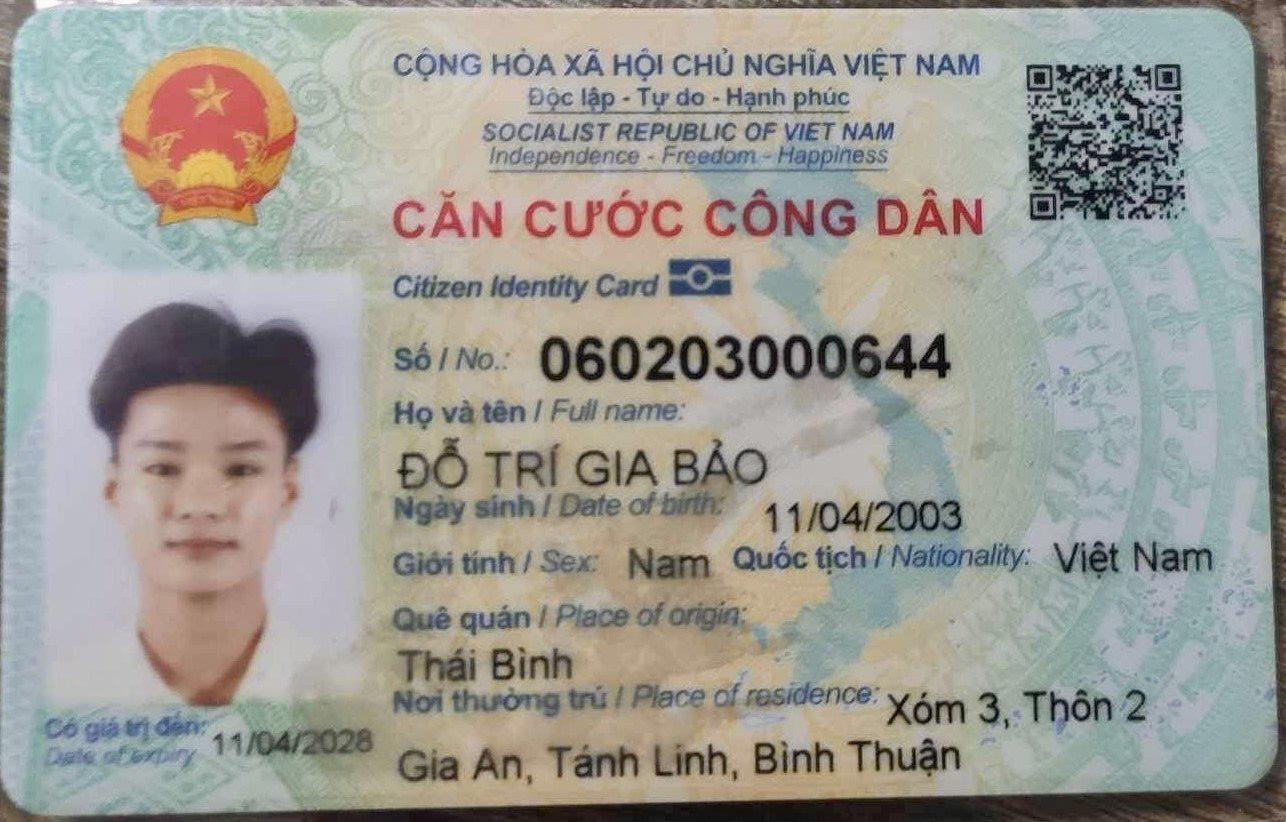ID: (533, 324, 963, 387)
birth: (763, 495, 970, 536)
name: (383, 430, 786, 494)
place: (387, 639, 601, 690)
residence: (393, 737, 983, 782), (882, 682, 1157, 731)
